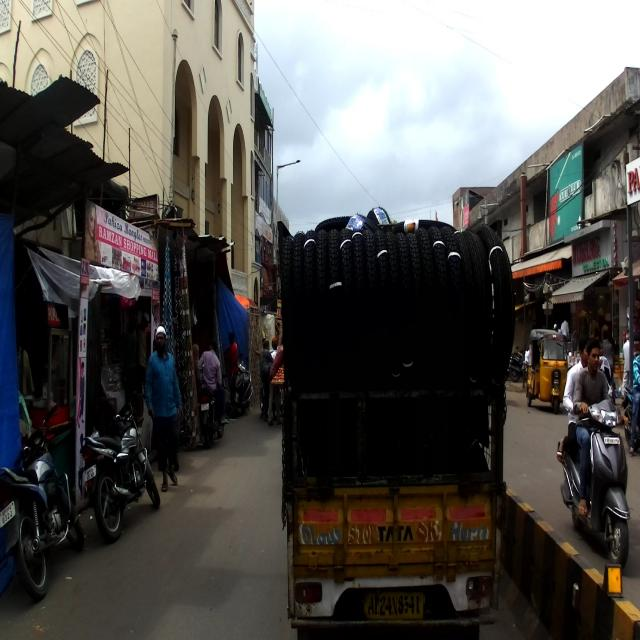motorcycle_Hero: (0, 402, 84, 599)
motorcycle_bajaj: (78, 385, 160, 542)
scooter: (560, 399, 632, 569)
truck: (276, 205, 516, 640)
